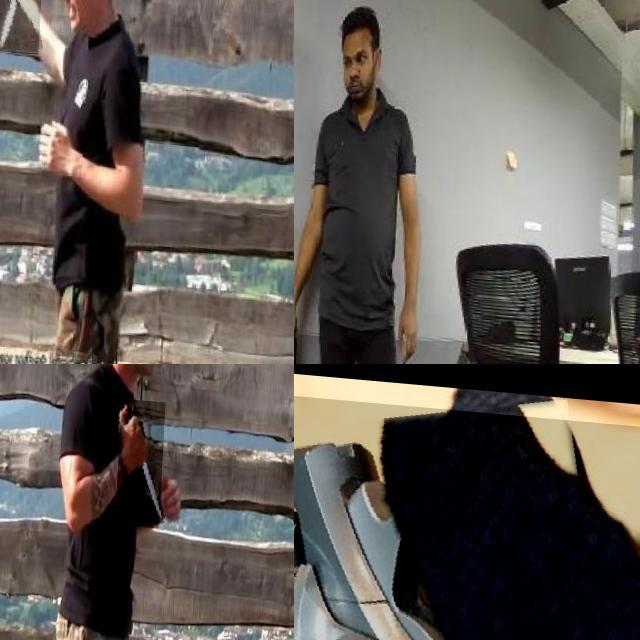-: (119, 395, 168, 524), (0, 0, 45, 51), (294, 332, 311, 364)
gun-knife-thesis - v11 Yolov5 augmented: (294, 377, 640, 640)
